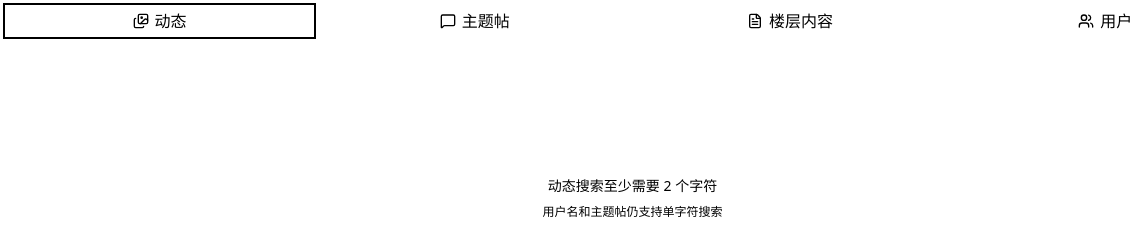
Test: SearchResults › 单字符切到楼层 Tab 时提示补充关键词且不启用请求
Click the tab "楼层内容". click: (790, 21)
box: [634,4,946,38]
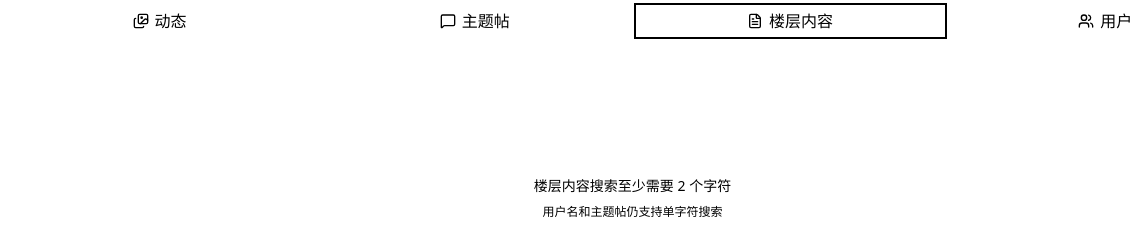
Expected: the text "楼层内容搜索至少需要 2 个字符" is shown, [534,176,731,196]
